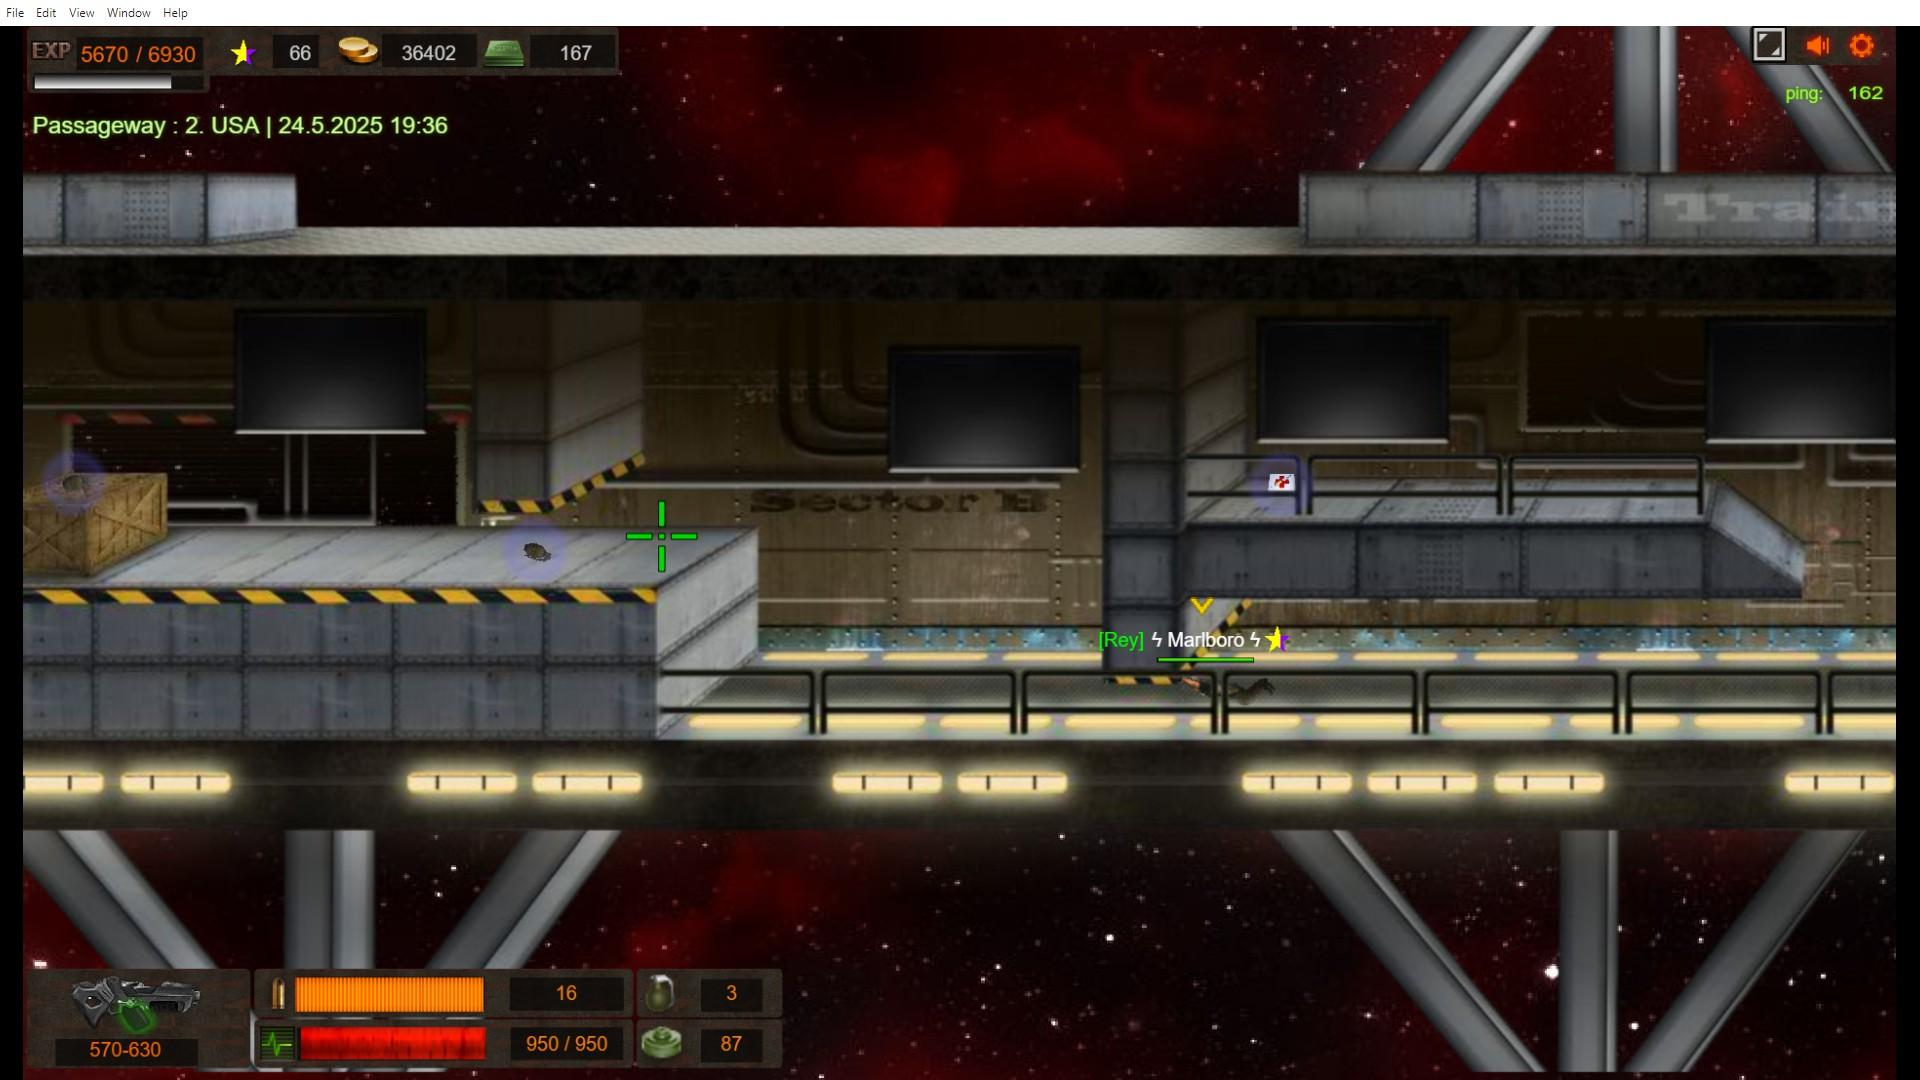enemy: (1175, 669, 1279, 703)
